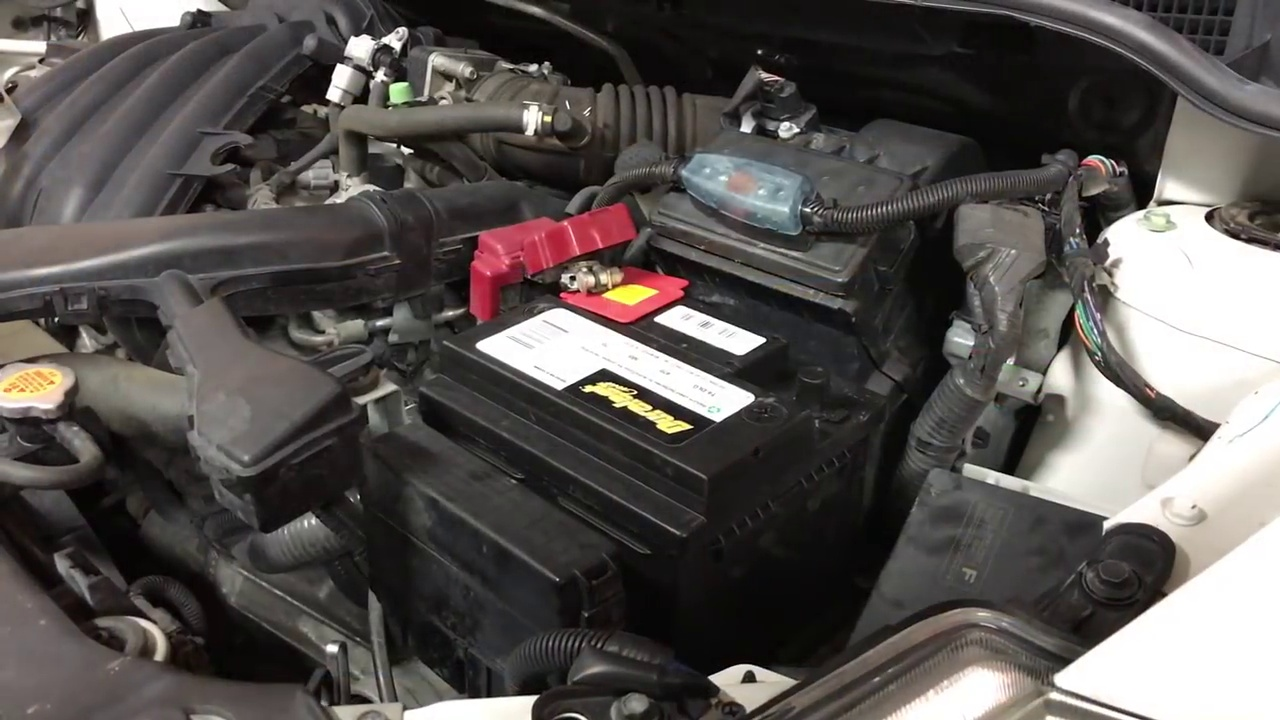battery: (431, 225, 875, 472)
pos_connected: (457, 179, 654, 323)
